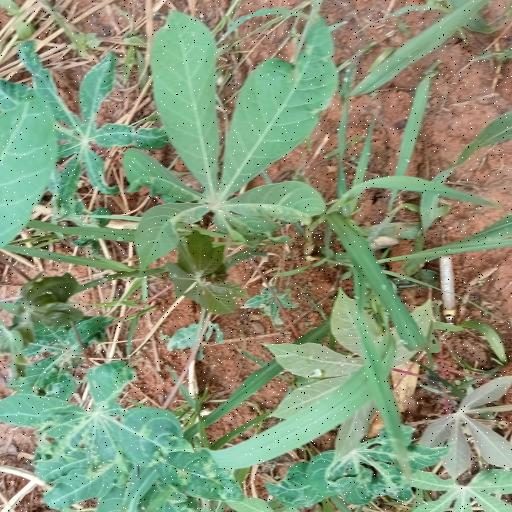Cassava_Mosaic: (120, 9, 329, 264), (8, 364, 180, 492)
